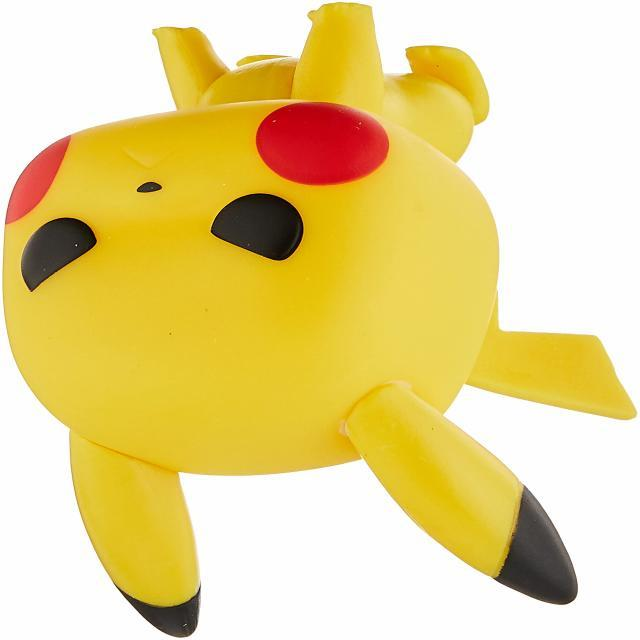Pikachu: (1, 4, 624, 629)
